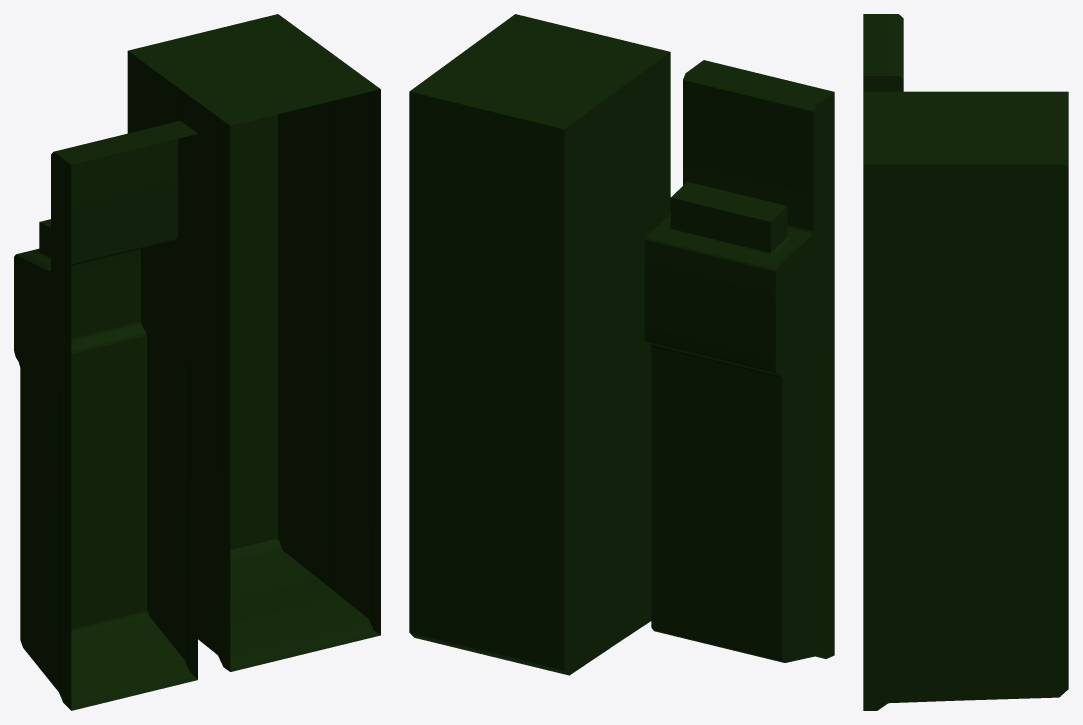
The model's file is Fridge_14_FridgeBodyMesh_0_3.obj.
3 views of the same model, side by side, from view 1: azimuth 30°, elevation 25°; view 2: azimuth 150°, elevation 25°; view 3: azimuth 270°, elevation 25° (orthographic). The views are drawn at different scales.
Bounding box in the file's own units: 1.03 × 1.88 × 0.5913.
